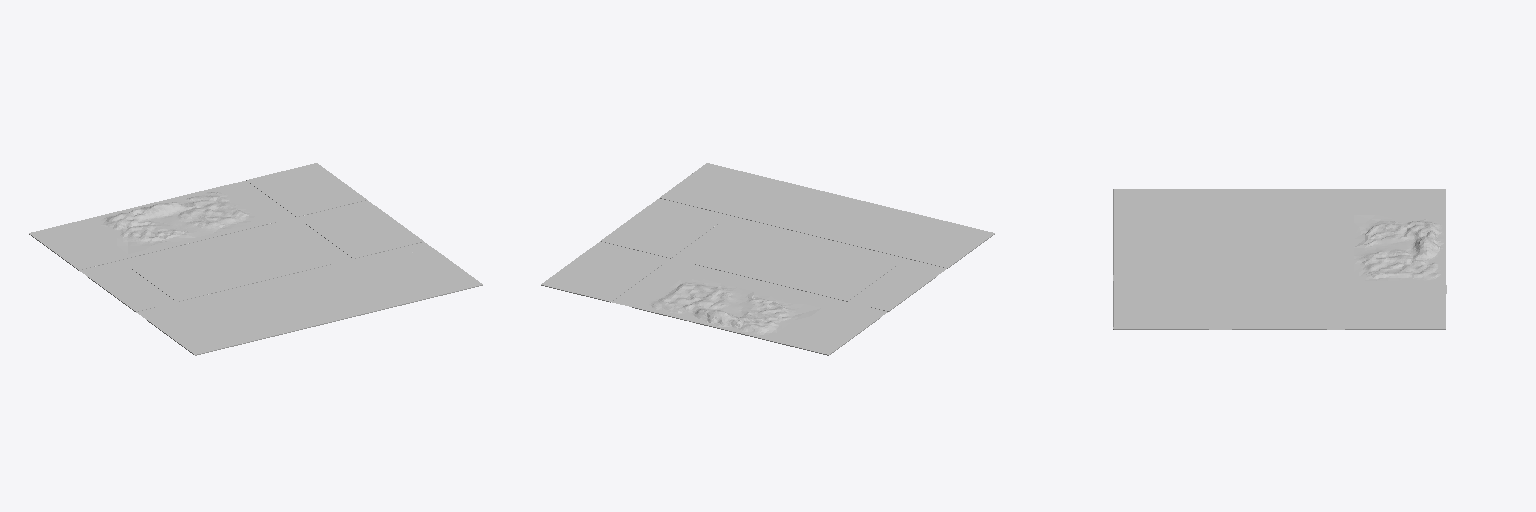
File: Terrain.obj
The picture shows the model from 3 angles: view 1: azimuth 30°, elevation 25°; view 2: azimuth 150°, elevation 25°; view 3: azimuth 270°, elevation 25°; orthographic projection.
Visible parts, largest first — view 1: Terrain_Cube; view 2: Terrain_Cube; view 3: Terrain_Cube.
Boxes of the visible parts, <box> form: Terrain_Cube: <box>29,163,482,355</box>; Terrain_Cube: <box>541,163,994,355</box>; Terrain_Cube: <box>1113,189,1446,329</box>.
Size of the model in its own units: 150 by 3.74 by 150.